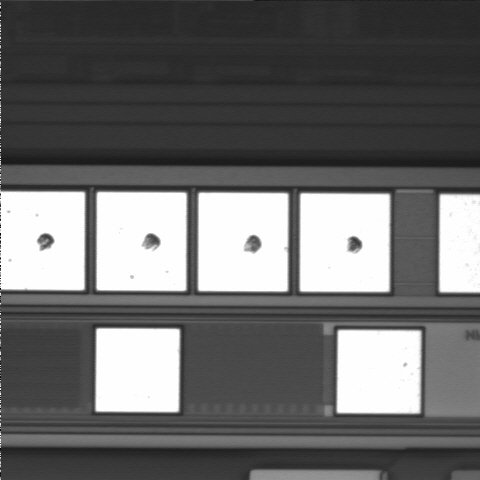pad: (300, 193, 390, 292), (198, 193, 288, 291), (97, 192, 186, 291), (96, 329, 180, 412), (337, 330, 421, 413)
